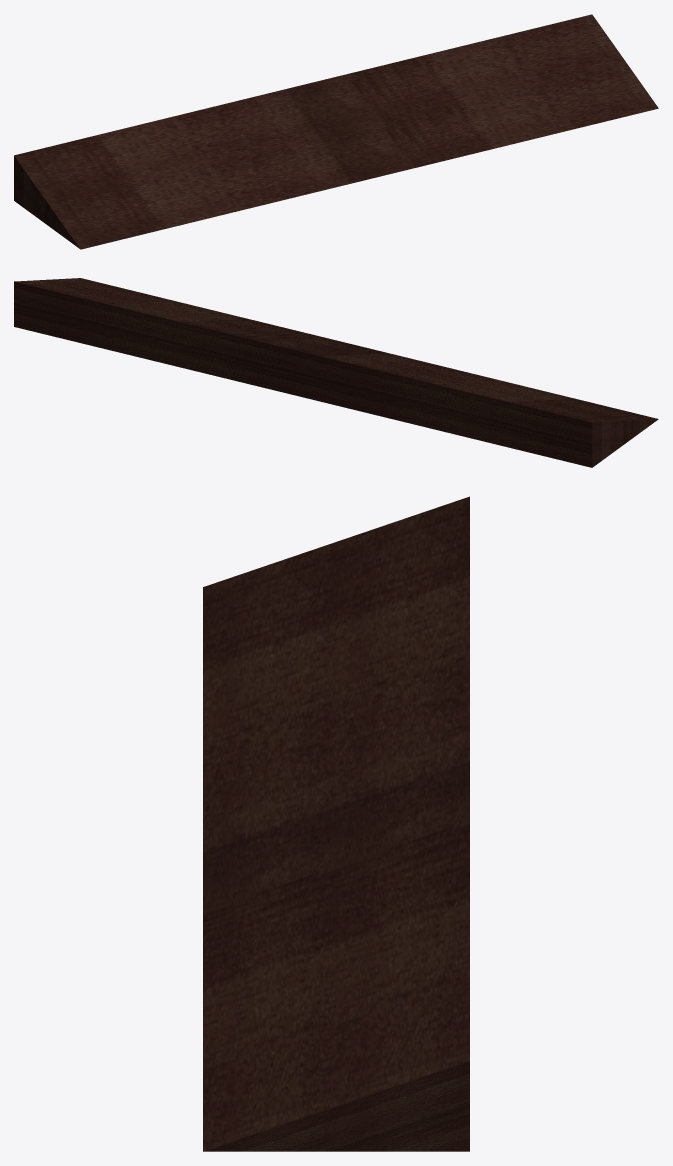
Rendered from slope.fbx.
The picture shows the model from 3 angles, top to bottom: view 1: azimuth 30°, elevation 25°; view 2: azimuth 150°, elevation 25°; view 3: azimuth 270°, elevation 25°; orthographic projection. The views are drawn at different scales.
Visible parts, largest first — view 1: Cube; view 2: Cube; view 3: Cube.
Part boxes in pixels (x1,y1,x2,y2): Cube: [14, 14, 658, 249]; Cube: [14, 278, 658, 467]; Cube: [203, 496, 469, 1151].
Size of the model in its own units: 8000 by 600 by 1600.
